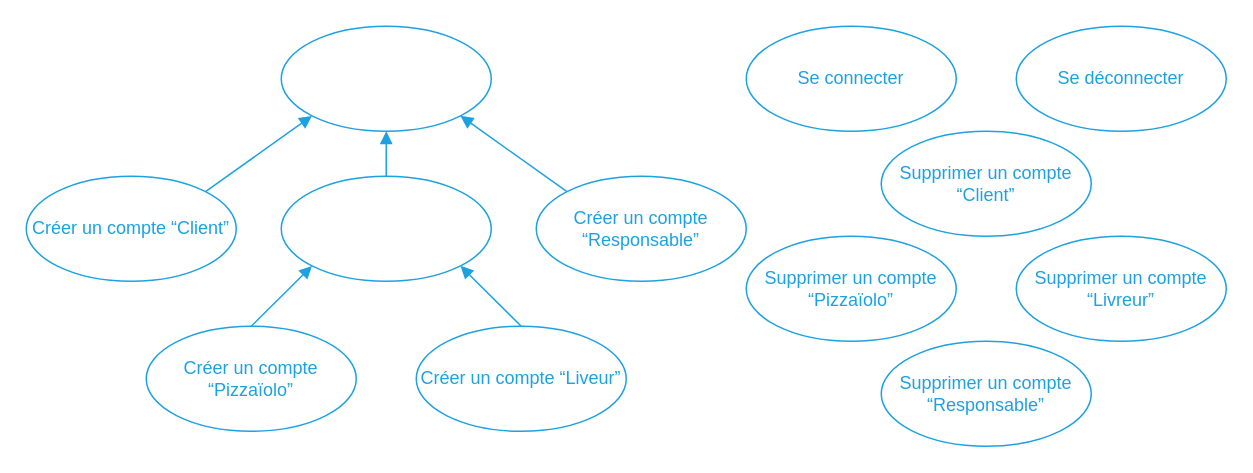
Image size: 1253x473. Some labels were removed from this diagram. Here are the shapes that lost their labels. From the top down, the centre of each, then its label:
point (385, 78): Créer un compte
point (385, 228): Créer un compte “Employé”
